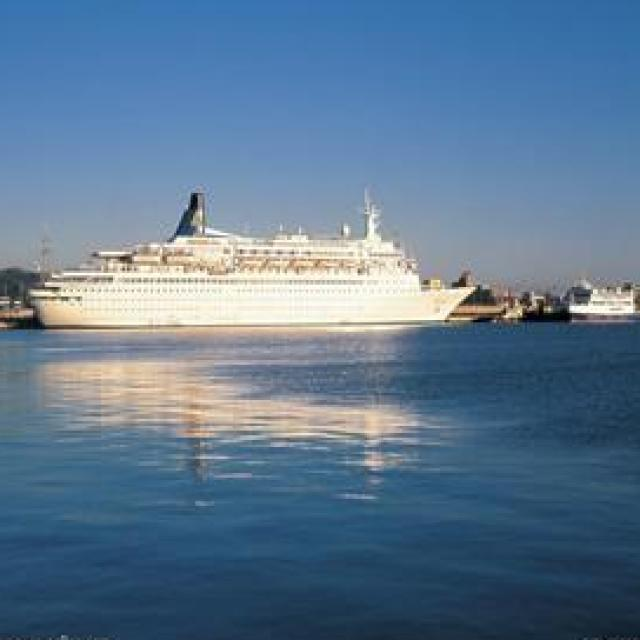passenger ship: (13, 225, 477, 332)
